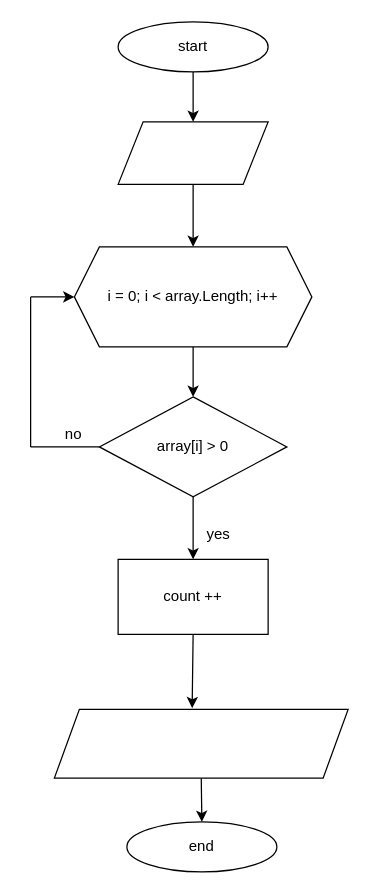
The diagram is 370 pixels wide and 894 high, and some of its shapes have lost their labels. The shapes that lost their labels are listed below. From the top down, each one's centre as x and y in pixels, then its label:
At point (192, 152): "array count = 0".
At point (200, 743): "print: Number of elements>0 = count".
